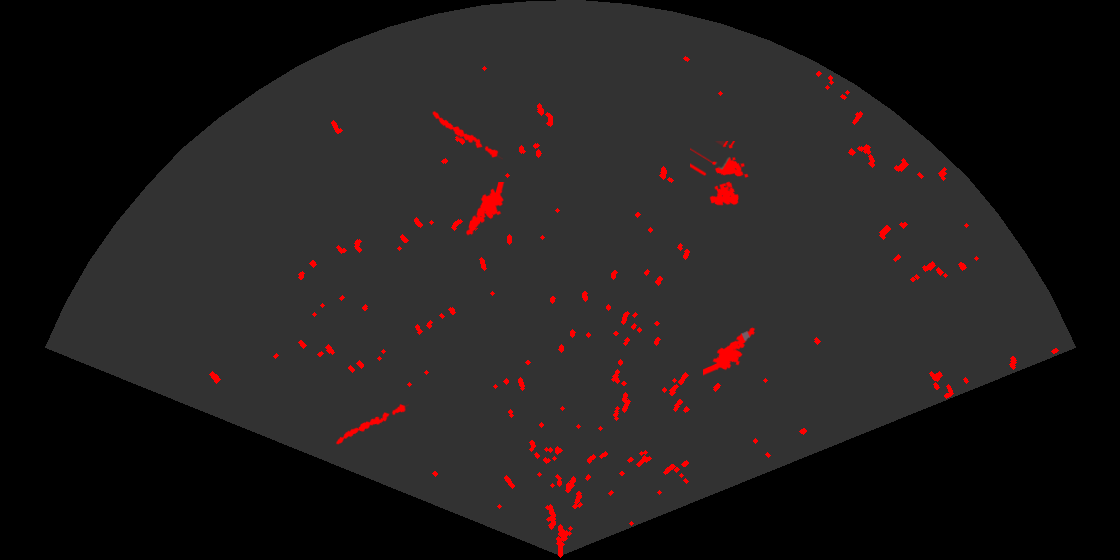cage: (690, 141, 750, 207)
chain: (431, 110, 503, 161), (334, 402, 409, 446)
frogman: (703, 326, 757, 377), (465, 182, 506, 237)
